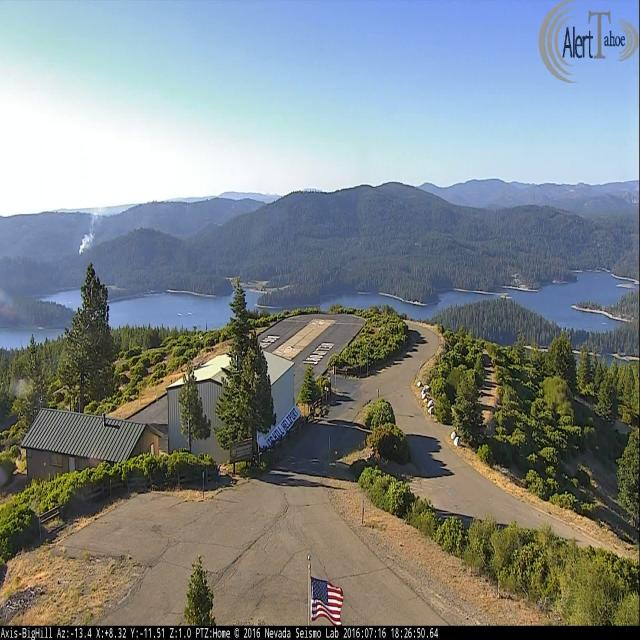smoke: (78, 212, 101, 256)
